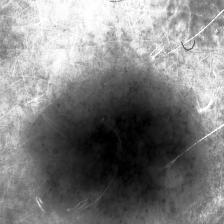Benign Marking or Mole: (34, 90, 204, 224)
